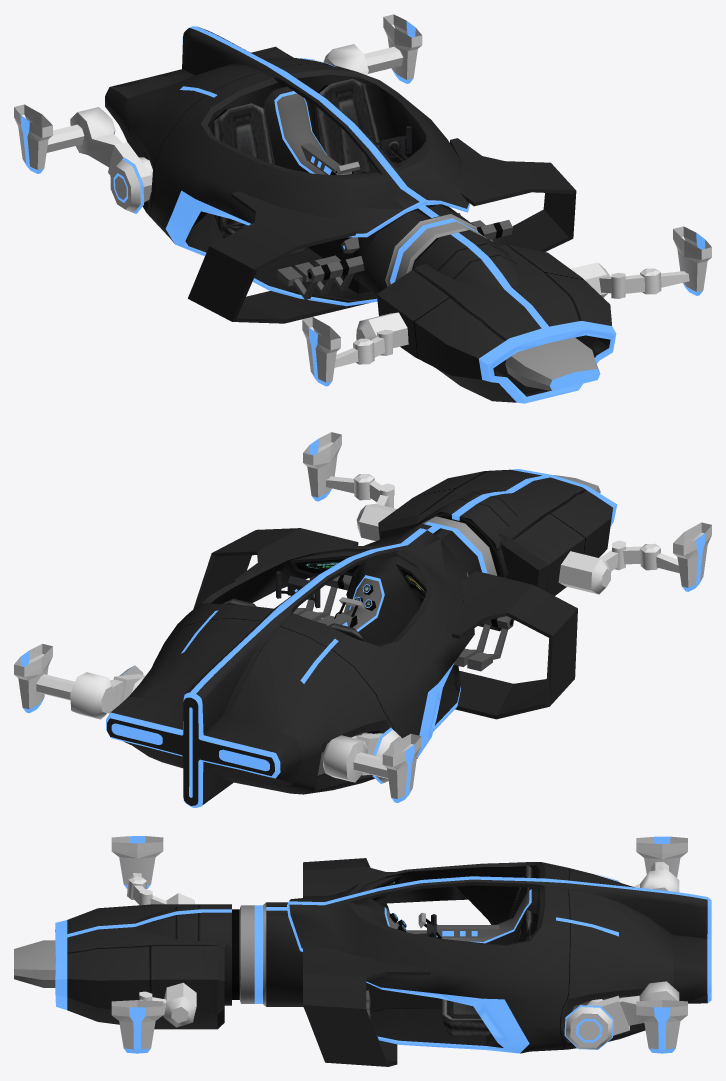
The model's file is runner01chassis.glb.
3 views of the same model, one above another, from view 1: azimuth 30°, elevation 25°; view 2: azimuth 150°, elevation 25°; view 3: azimuth 270°, elevation 25° (orthographic). The views are drawn at different scales.
Visible parts, largest first — view 1: chassis, chassisGlow, seats, rearRightSuspensionPiston, pedals, radiator, frontRightSuspensionPiston, frontLeftSuspensionPiston, rearLeftSuspensionPiston, rearRightSuspensionGlow, steeringWheel; view 2: chassis, chassisGlow, frontRightSuspensionPiston, rearLeftSuspensionPiston, rearRightSuspensionPiston, frontLeftSuspensionPiston, pedals, radiator, chassisDisplayGlow, steeringWheel; view 3: chassis, chassisGlow, rearLeftSuspensionPiston, radiator, frontLeftSuspensionPiston, frontRightSuspensionPiston, seats, rearRightSuspensionPiston, pedals, rearLeftSuspensionGlow, chassisDisplayGlow, frontLeftSuspensionGlow.
Part boxes in pixels (x1=…): chassis: x1=105, y1=26, x2=611, y2=402; chassisGlow: x1=165, y1=26, x2=616, y2=403; seats: x1=211, y1=78, x2=408, y2=257; rearRightSuspensionPiston: x1=14, y1=104, x2=152, y2=212; pedals: x1=148, y1=93, x2=512, y2=299; radiator: x1=335, y1=161, x2=599, y2=390; frontRightSuspensionPiston: x1=302, y1=312, x2=408, y2=382; frontLeftSuspensionPiston: x1=571, y1=226, x2=711, y2=298; rearLeftSuspensionPiston: x1=323, y1=14, x2=422, y2=79; rearRightSuspensionGlow: x1=20, y1=115, x2=143, y2=213; steeringWheel: x1=367, y1=126, x2=411, y2=163; chassis: x1=107, y1=469, x2=612, y2=805; chassisGlow: x1=106, y1=469, x2=617, y2=807; frontRightSuspensionPiston: x1=558, y1=522, x2=711, y2=594; rearLeftSuspensionPiston: x1=14, y1=644, x2=145, y2=719; rearRightSuspensionPiston: x1=322, y1=730, x2=421, y2=799; frontLeftSuspensionPiston: x1=303, y1=432, x2=396, y2=540; pedals: x1=293, y1=575, x2=513, y2=775; radiator: x1=339, y1=475, x2=600, y2=608; chassisDisplayGlow: x1=295, y1=516, x2=513, y2=627; steeringWheel: x1=276, y1=571, x2=320, y2=608; chassis: x1=55, y1=858, x2=707, y2=1066; chassisGlow: x1=55, y1=874, x2=711, y2=1053; rearLeftSuspensionPiston: x1=566, y1=981, x2=687, y2=1049; radiator: x1=14, y1=902, x2=425, y2=1006; frontLeftSuspensionPiston: x1=111, y1=982, x2=196, y2=1049; frontRightSuspensionPiston: x1=111, y1=836, x2=194, y2=905; seats: x1=416, y1=865, x2=538, y2=1036; rearRightSuspensionPiston: x1=633, y1=836, x2=687, y2=892; pedals: x1=366, y1=891, x2=632, y2=1018; rearLeftSuspensionGlow: x1=564, y1=1005, x2=675, y2=1053; chassisDisplayGlow: x1=232, y1=876, x2=441, y2=999; frontLeftSuspensionGlow: x1=124, y1=1007, x2=150, y2=1053.
Bounding box in the file's own units: 3.11 × 1.15 × 5.35.
8 materials, 3 textured.
